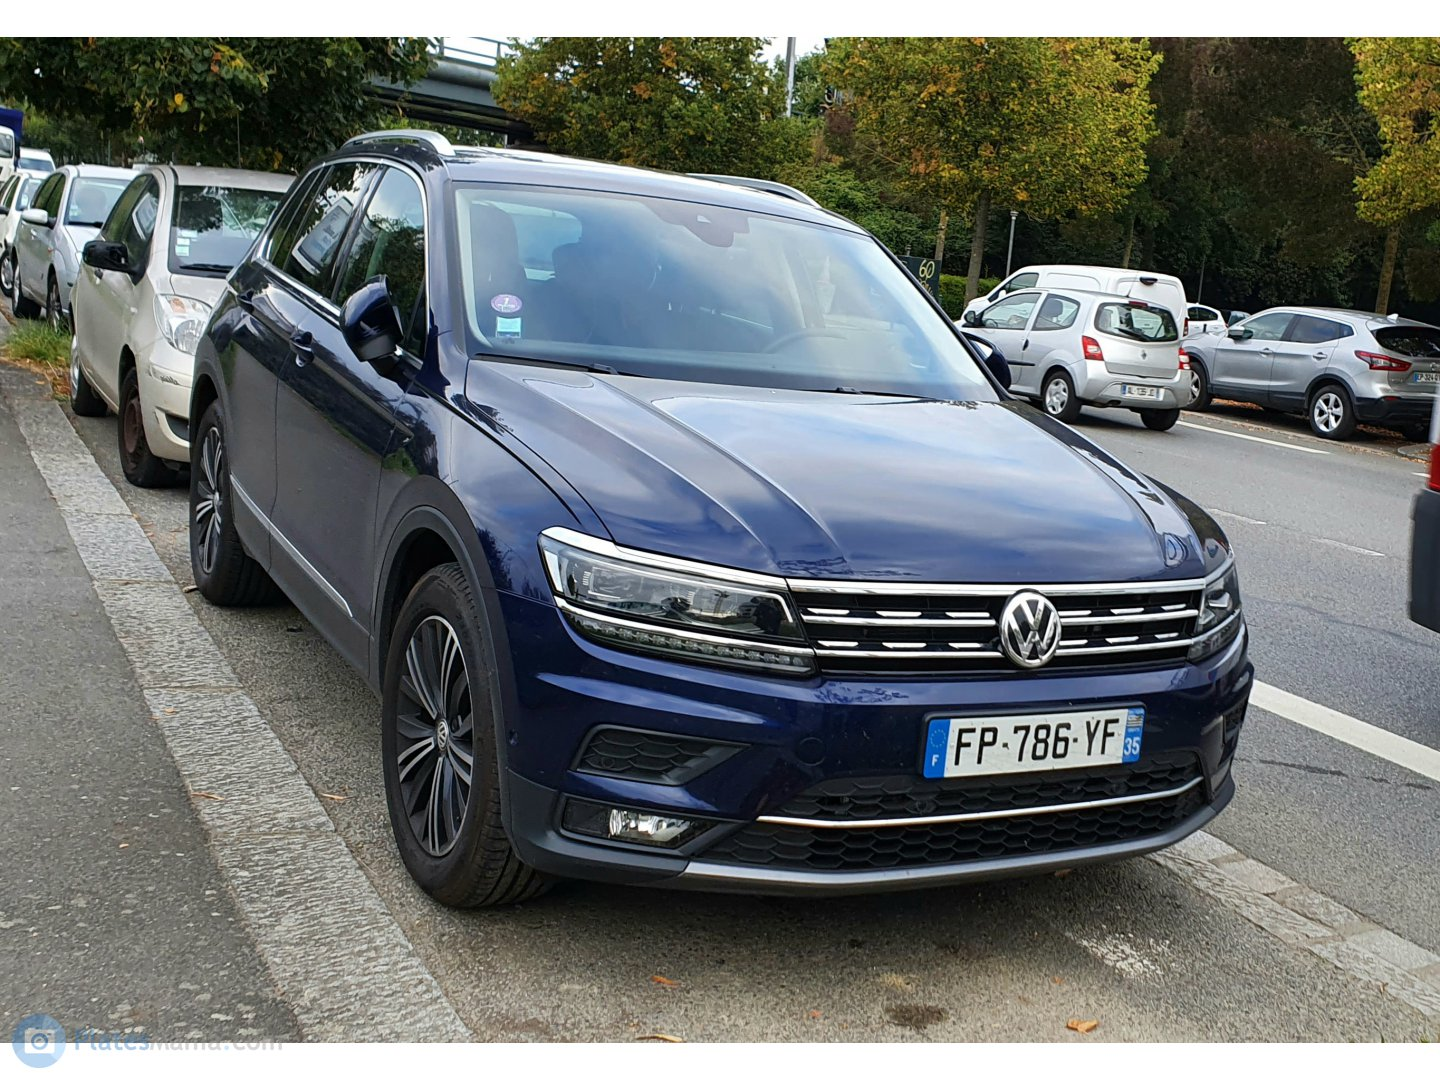licence plate: (914, 700, 1156, 787)
